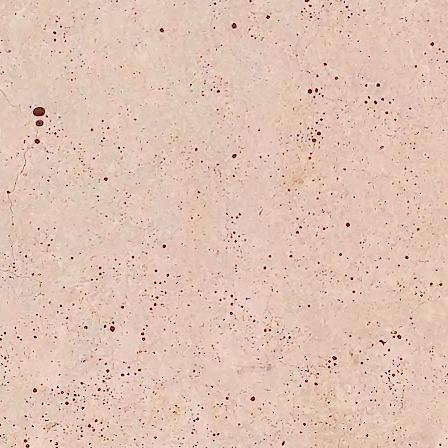crack: (0, 88, 41, 267)
